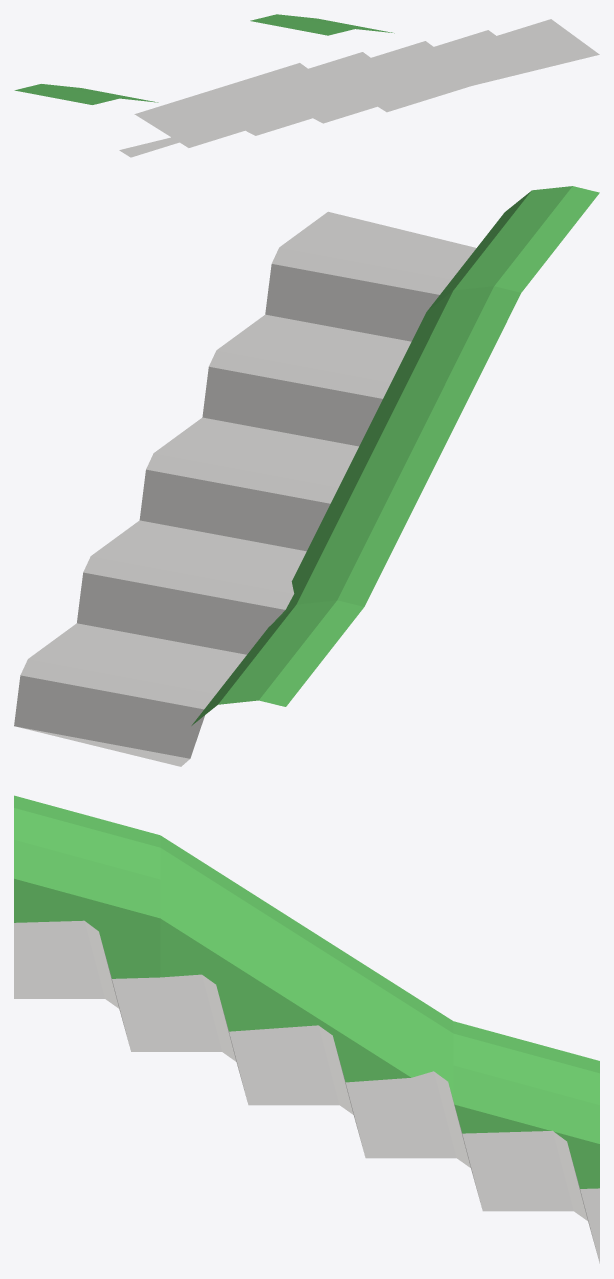
The model's file is Cliff_Terrain_Path_Steps_Grass_Edge.glb.
The picture shows the model from 3 angles, top to bottom: view 1: azimuth 30°, elevation 25°; view 2: azimuth 150°, elevation 25°; view 3: azimuth 270°, elevation 25°; orthographic projection. The views are drawn at different scales.
Parts seen in each view (by area): view 1: Cliff_Terrain_Path_Steps_Grass_Edge; view 2: Cliff_Terrain_Path_Steps_Grass_Edge; view 3: Cliff_Terrain_Path_Steps_Grass_Edge.
Part boxes in pixels (left/top/right/bottom): Cliff_Terrain_Path_Steps_Grass_Edge: left=14, top=14, right=599, bottom=157; Cliff_Terrain_Path_Steps_Grass_Edge: left=14, top=186, right=599, bottom=766; Cliff_Terrain_Path_Steps_Grass_Edge: left=14, top=795, right=599, bottom=1263.
Size of the model in its own units: 1 by 1.3 by 2.
